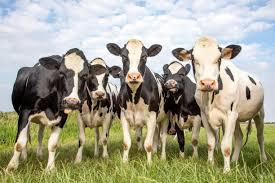cow: (170, 38, 270, 173), (6, 47, 106, 175), (106, 40, 165, 166), (75, 58, 121, 161), (161, 61, 201, 157)
